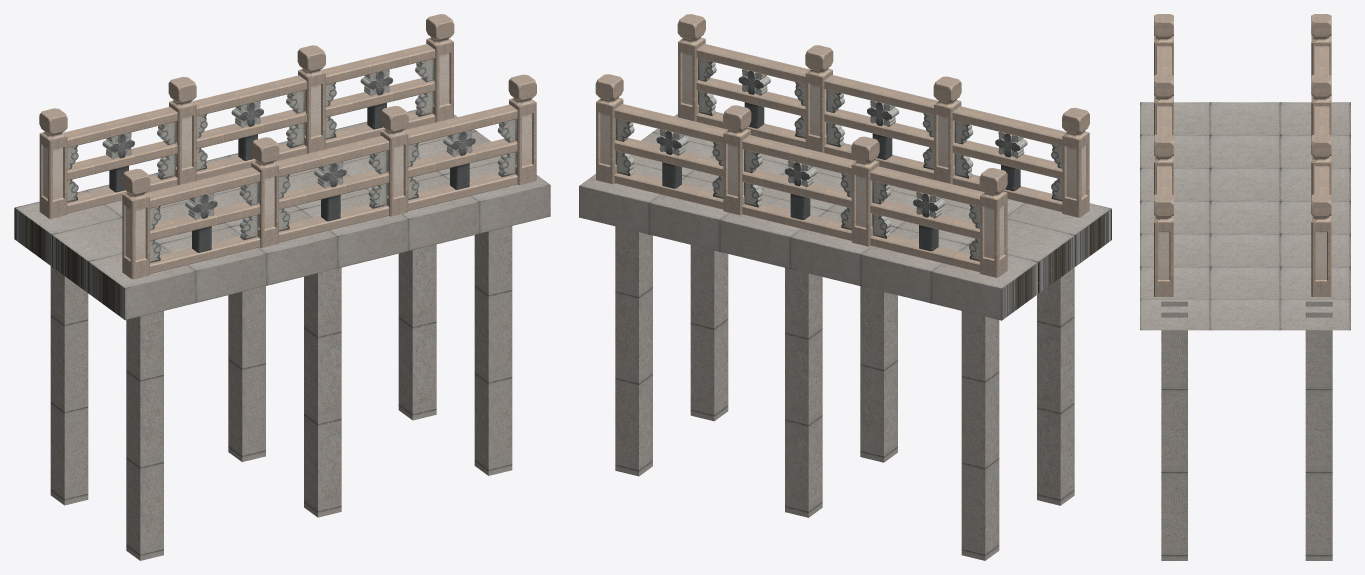
File: Building_BridgeWeiShiTing02.FBX
3 views of the same model, side by side, from view 1: azimuth 30°, elevation 25°; view 2: azimuth 150°, elevation 25°; view 3: azimuth 270°, elevation 25° (orthographic). The views are drawn at different scales.
Parts seen in each view (by area): view 1: Object03; view 2: Object03; view 3: Object03.
Boxes of the visible parts, bbox=[...] form: Object03: bbox=[14, 14, 550, 560]; Object03: bbox=[579, 14, 1111, 560]; Object03: bbox=[1140, 14, 1350, 560].
Size of the model in its own units: 465 by 404 by 210.
